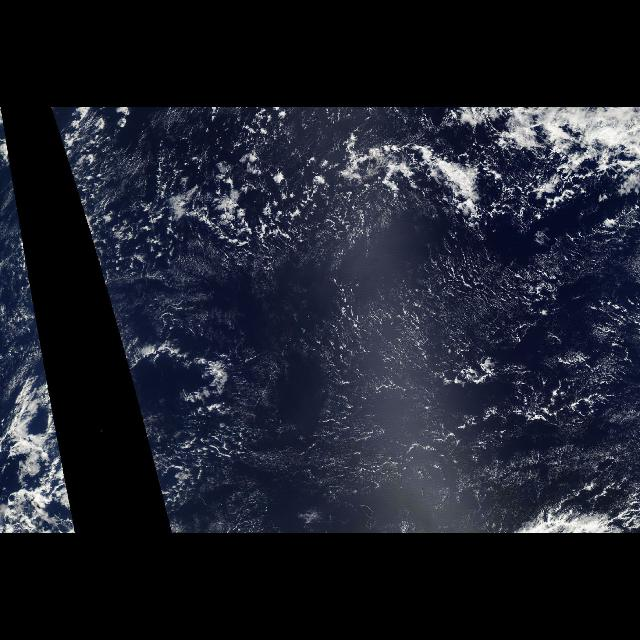Gravel: (144, 246, 620, 492)
